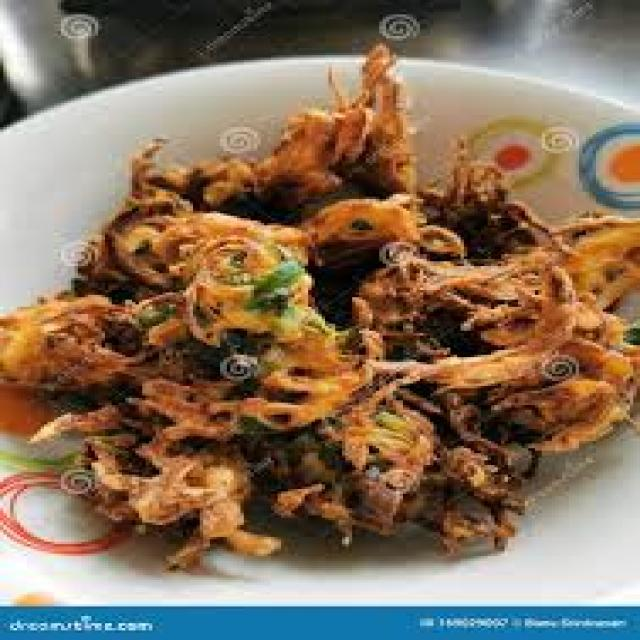BAJI: (0, 39, 637, 555)
